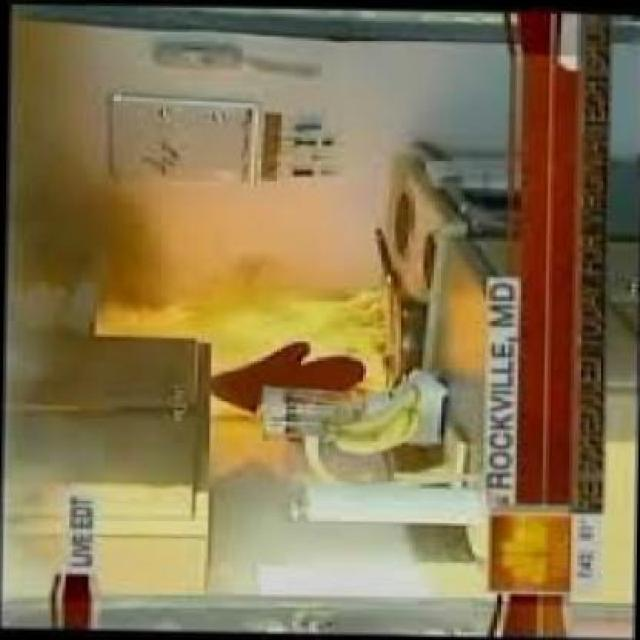Fire: (106, 258, 392, 346)
Smoke: (0, 198, 105, 418)
